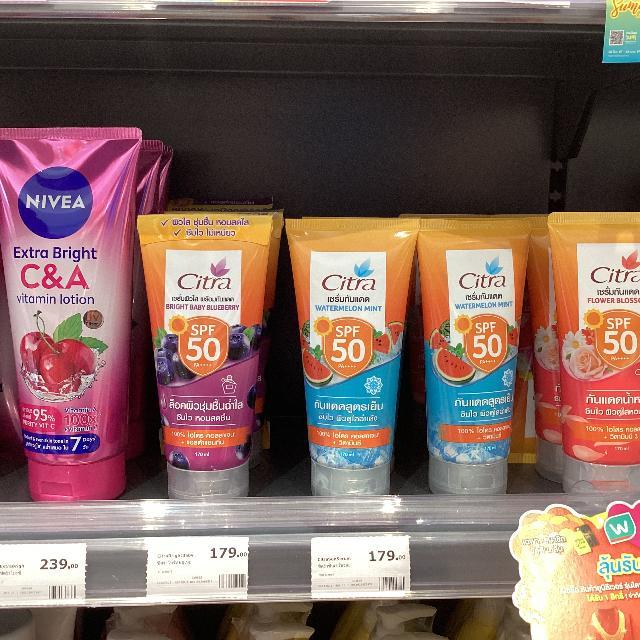Squeeze Tube: (0, 102, 136, 509), (278, 189, 418, 506), (137, 194, 268, 506), (416, 206, 536, 521), (543, 204, 640, 499)
